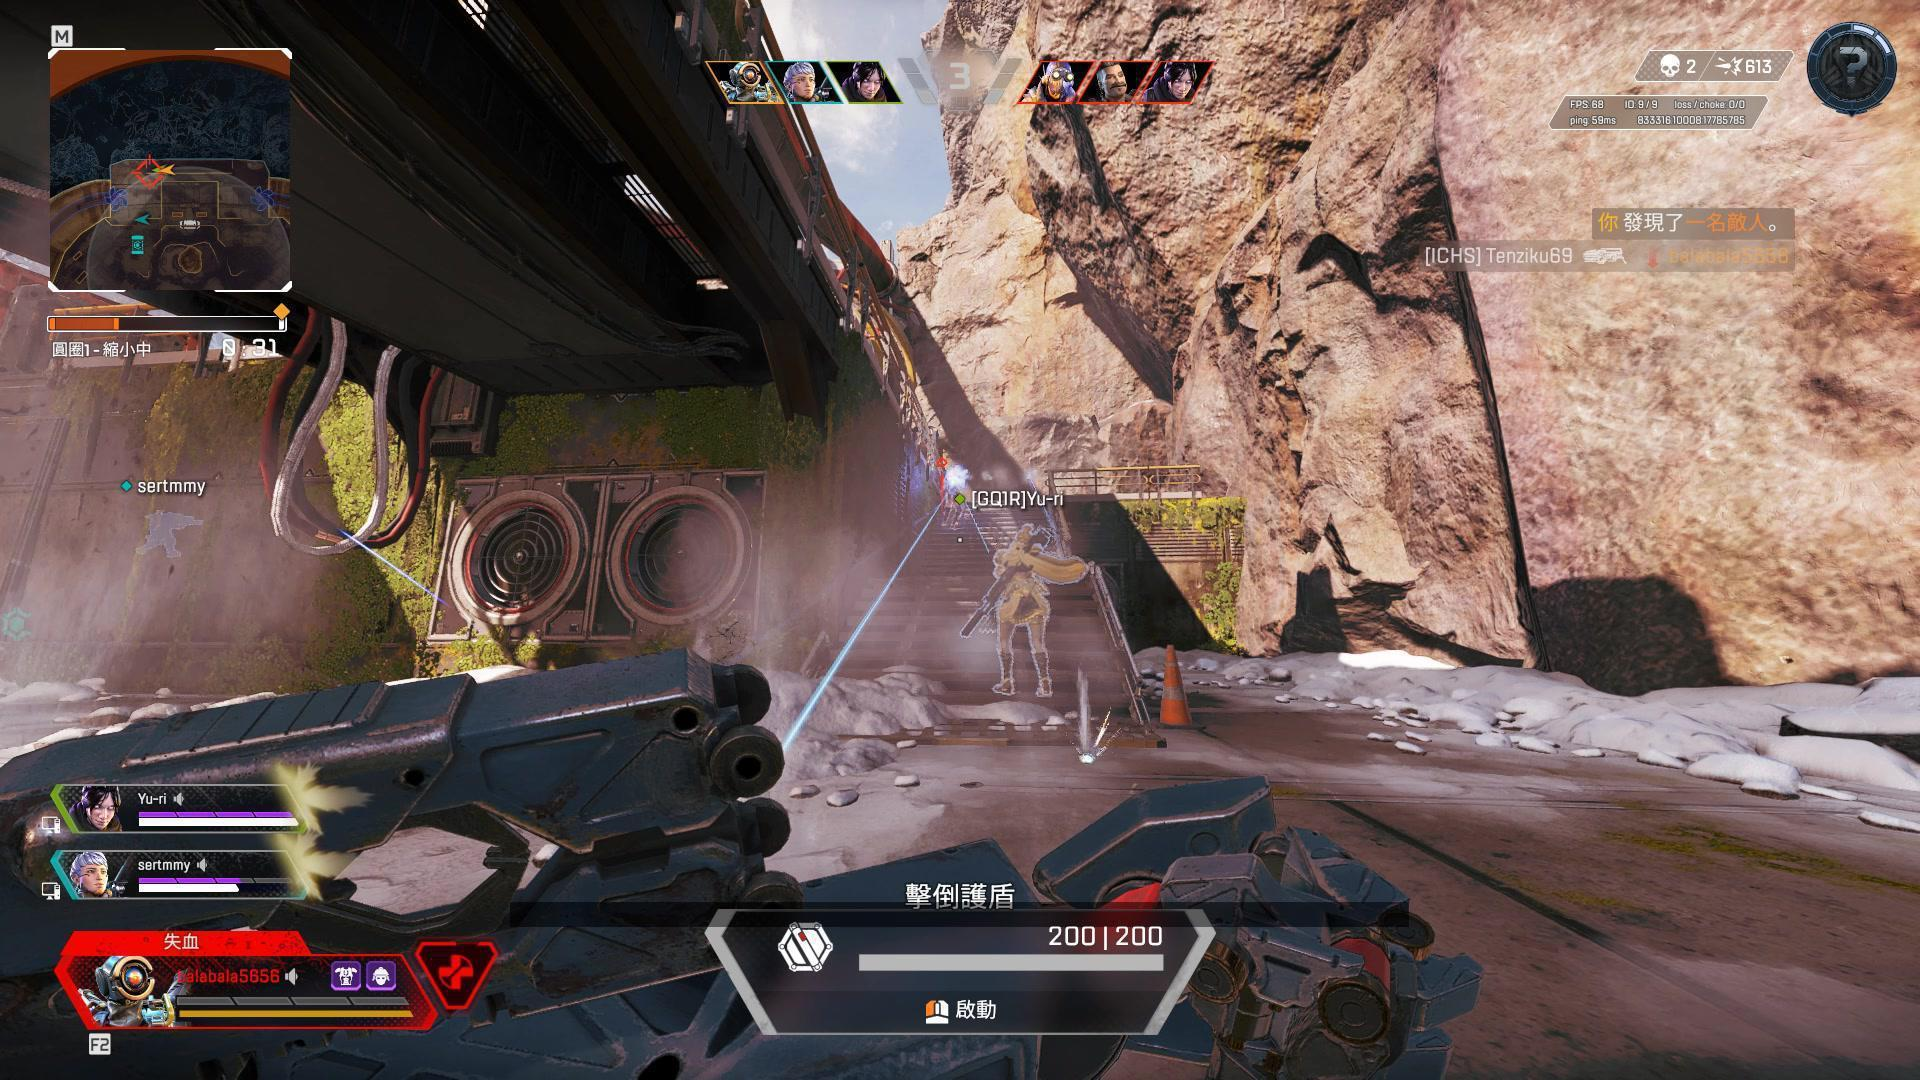avatar: (988, 523, 1056, 703)
object: (943, 462, 971, 495)
